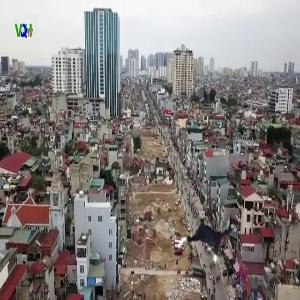drone: (176, 209, 242, 275)
